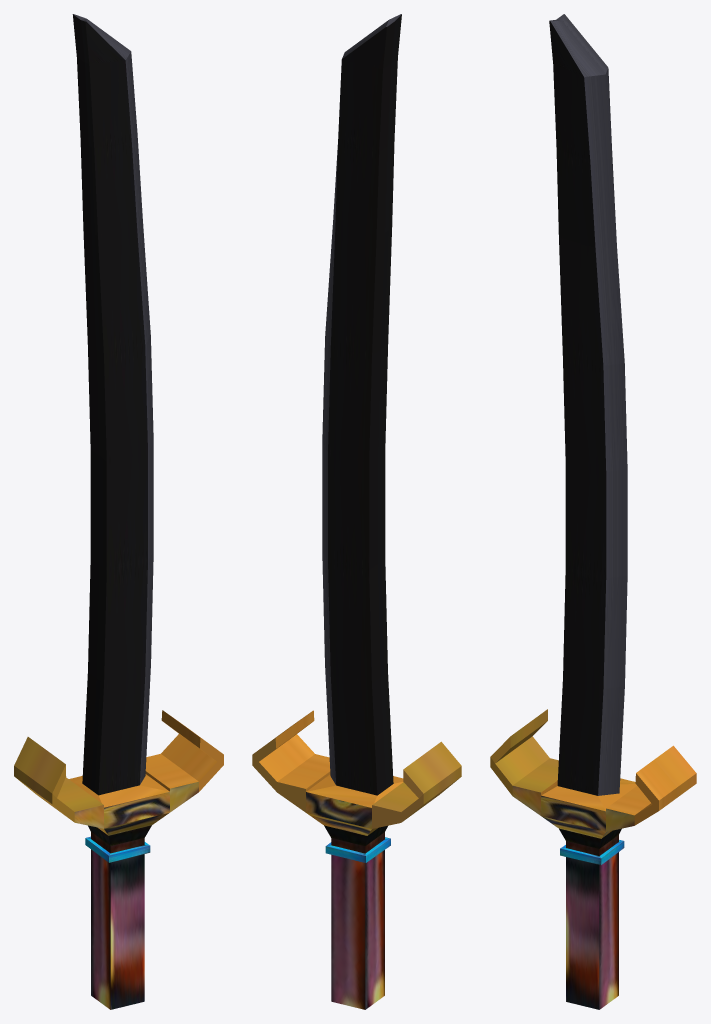
The model's file is Scimitar.fbx.
3 views of the same model, side by side, from view 1: azimuth 30°, elevation 25°; view 2: azimuth 150°, elevation 25°; view 3: azimuth 330°, elevation 25° (orthographic).
Parts seen in each view (by area): view 1: Scimitar; view 2: Scimitar; view 3: Scimitar.
Part boxes in pixels (bbox=[...]): Scimitar: bbox=[14, 14, 223, 1009]; Scimitar: bbox=[252, 14, 461, 1009]; Scimitar: bbox=[490, 14, 696, 1009].
Bounding box in the file's own units: 762 × 4205 × 319.
